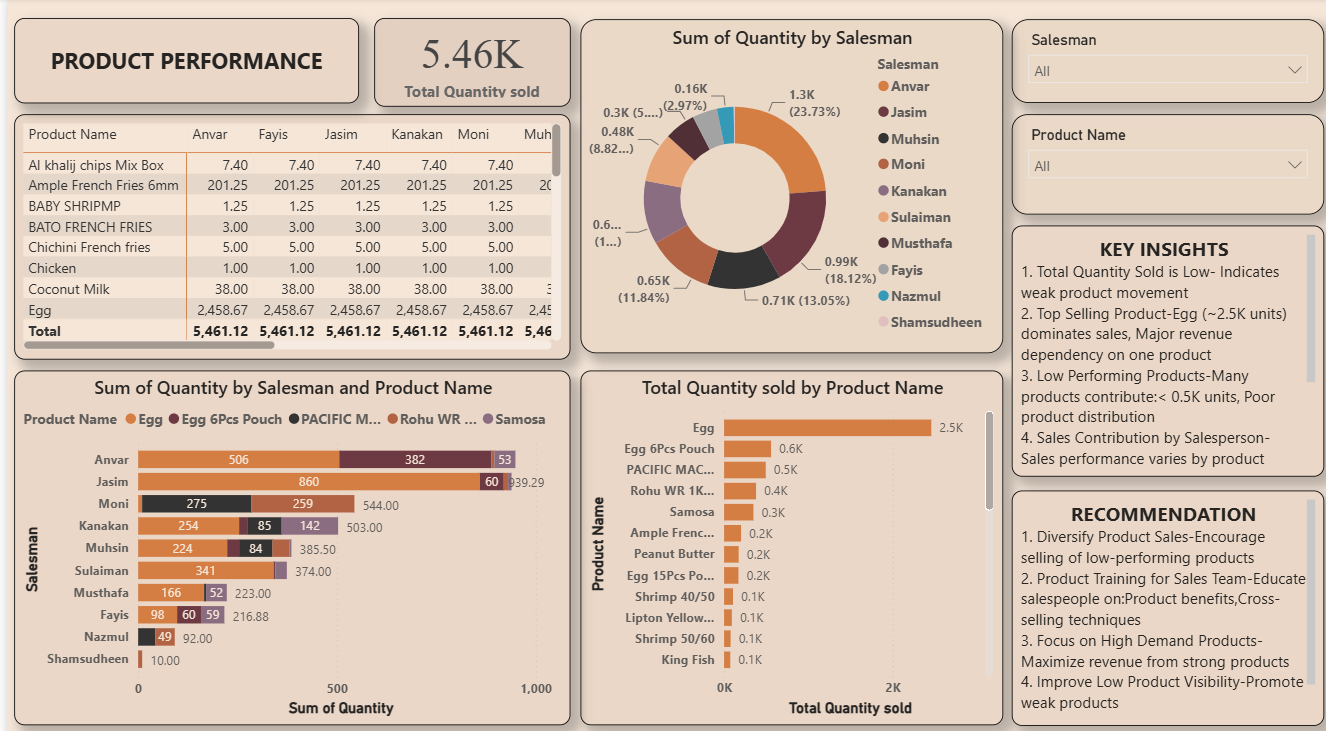

Layout of this report page (visuals, bound fields, positions):
{"tool":"powerbi","page":{"name":"PRODUCT PERFORMANCE ","canvas":[1280,720],"ordinal":2},"visuals":[{"type":"card","fields":{"Values":["product Data.Total Quantity sold"]},"box":[353.5,19.3,189.4,85.7],"z":0},{"type":"slicer","fields":{"Values":["product Data.Salesman"]},"box":[968.8,20.5,301.6,80.8],"z":1000},{"type":"slicer","fields":{"Values":["product Data.Product Name"]},"box":[968.8,112.2,301.6,96.5],"z":2000},{"type":"clusteredBarChart","fields":{"Category":["product Data.Product Name"],"Y":["product Data.Total Quantity sold"]},"box":[552.5,359.5,407.8,342.6],"z":3000},{"type":"pivotTable","fields":{"Columns":["Salesman Data.Sales Man"],"Rows":["product Data.Product Name"],"Values":["product Data.Total Quantity sold"]},"box":[6,112.2,536.9,236.5],"z":4000},{"type":"barChart","fields":{"Category":["product Data.Salesman"],"Series":["product Data.Product Name"],"Y":["Sum(product Data.Quantity)"]},"box":[6,359.5,536.9,342.6],"z":5000},{"type":"donutChart","fields":{"Category":["product Data.Salesman"],"Y":["Sum(product Data.Quantity)"]},"box":[552.5,20.5,407.8,322.1],"z":6000},{"type":"textbox","box":[968.8,219.6,301.6,242.5],"z":7000},{"type":"textbox","box":[968.8,475.3,301.6,226.8],"z":8000},{"type":"textbox","box":[6,19.3,333,82],"z":9000}]}

Visuals, with their boxes in screenshot pixels (x1, y1, x2, y2), scaled from the page's 1280x720 canvas onto the 1326x731 screenshot:
card - product Data.Total Quantity sold: Rect(366, 20, 562, 107)
slicer - product Data.Salesman: Rect(1004, 21, 1316, 103)
slicer - product Data.Product Name: Rect(1004, 114, 1316, 212)
clusteredBarChart - product Data.Product Name x product Data.Total Quantity sold: Rect(572, 365, 995, 713)
pivotTable - Salesman Data.Sales Man x product Data.Product Name: Rect(6, 114, 562, 354)
barChart - product Data.Salesman x product Data.Product Name: Rect(6, 365, 562, 713)
donutChart - product Data.Salesman x Sum(product Data.Quantity): Rect(572, 21, 995, 348)
textbox: Rect(1004, 223, 1316, 469)
textbox: Rect(1004, 483, 1316, 713)
textbox: Rect(6, 20, 351, 103)
